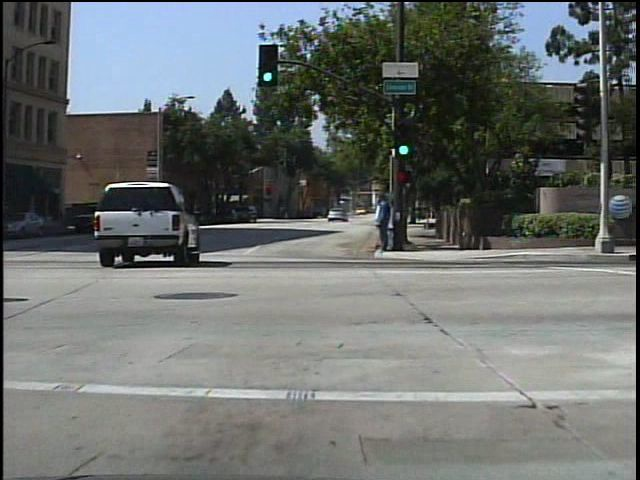person: (371, 189, 394, 254), (375, 195, 393, 251)
